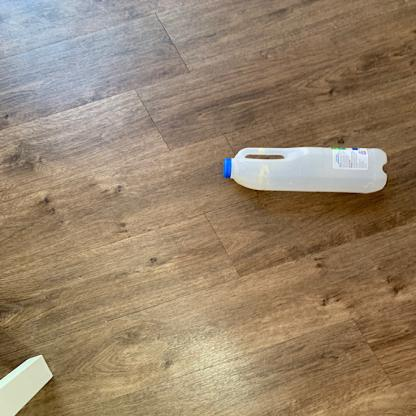trash: (218, 147, 393, 195)
